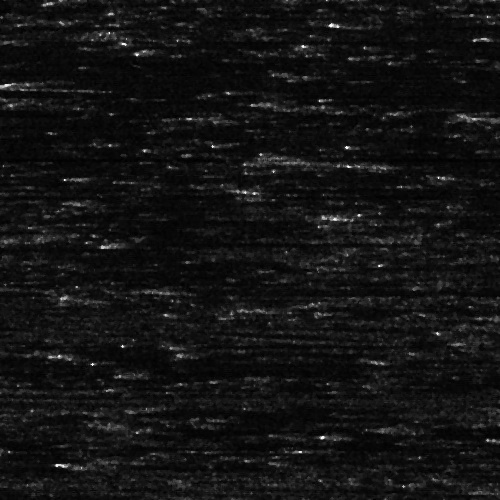object: (220, 149, 377, 166), (235, 301, 340, 312), (35, 460, 150, 469), (306, 210, 389, 217), (104, 367, 167, 376), (73, 239, 166, 244), (175, 339, 238, 344), (99, 406, 152, 411), (342, 356, 395, 359), (56, 196, 97, 199), (147, 285, 168, 290), (6, 81, 17, 86)
shadow: (0, 359, 333, 368), (135, 367, 460, 376), (288, 301, 459, 312), (299, 149, 391, 166), (93, 460, 250, 469), (120, 239, 375, 244), (126, 406, 366, 411), (207, 339, 372, 344), (348, 210, 439, 217), (11, 81, 102, 86), (158, 285, 241, 290), (77, 196, 163, 199), (369, 356, 454, 359)
